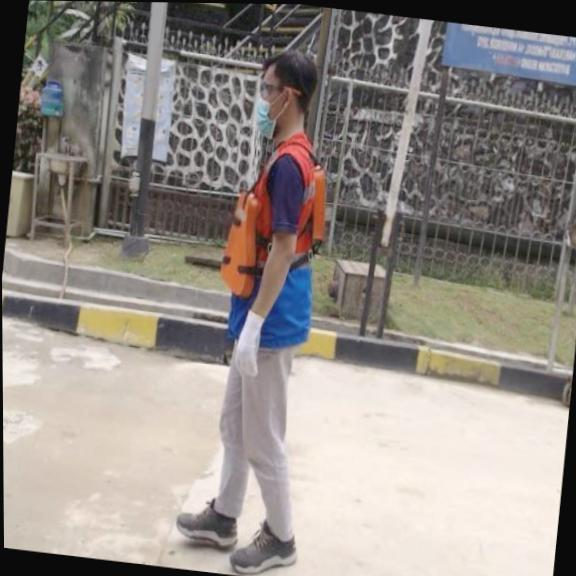safety_vest: (216, 153, 334, 308)
